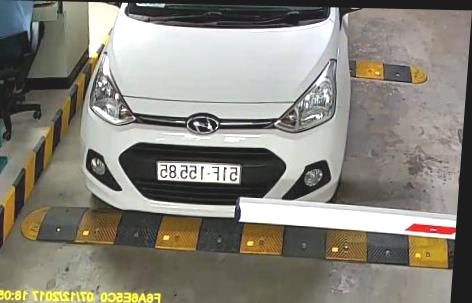License_Plate: (155, 159, 243, 187)
